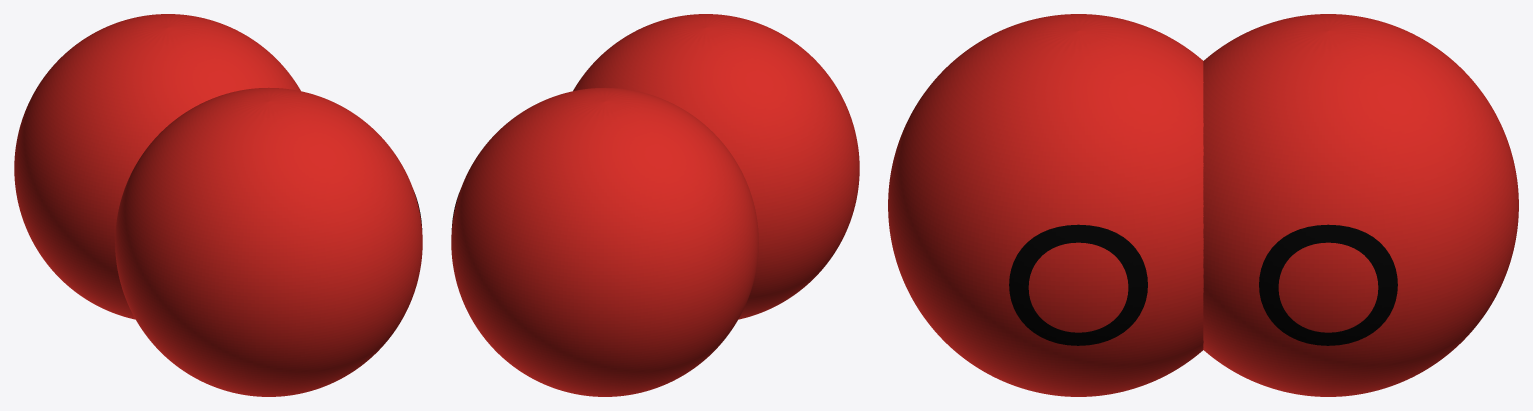
File: Molecular Oxygen (O2) - Copy.fbx
3 views of the same model, side by side, from view 1: azimuth 30°, elevation 25°; view 2: azimuth 150°, elevation 25°; view 3: azimuth 270°, elevation 25° (orthographic). The views are drawn at different scales.
Parts seen in each view (by area): view 1: Sphere.031, Sphere.032; view 2: Sphere.032, Sphere.031; view 3: Sphere.032, Sphere.031, Text.032, Text.031.
Boxes of the visible parts, <box> form: Sphere.031: <box>115,87,422,396</box>; Sphere.032: <box>14,14,300,319</box>; Sphere.032: <box>451,87,758,396</box>; Sphere.031: <box>573,14,859,319</box>; Sphere.032: <box>1203,14,1518,396</box>; Sphere.031: <box>888,14,1203,396</box>; Text.032: <box>1259,224,1397,345</box>; Text.031: <box>1009,224,1147,345</box>.
Size of the model in its own units: 197 by 200 by 327.
